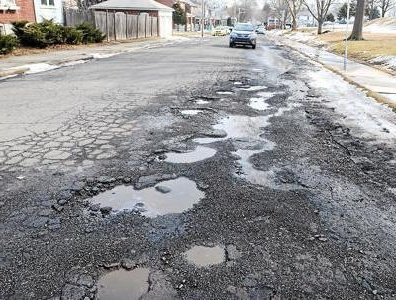pothole: (81, 172, 209, 217), (91, 260, 157, 300), (151, 143, 218, 163), (181, 240, 228, 265), (173, 103, 209, 114), (190, 132, 225, 141), (189, 93, 214, 104), (214, 87, 236, 94)
